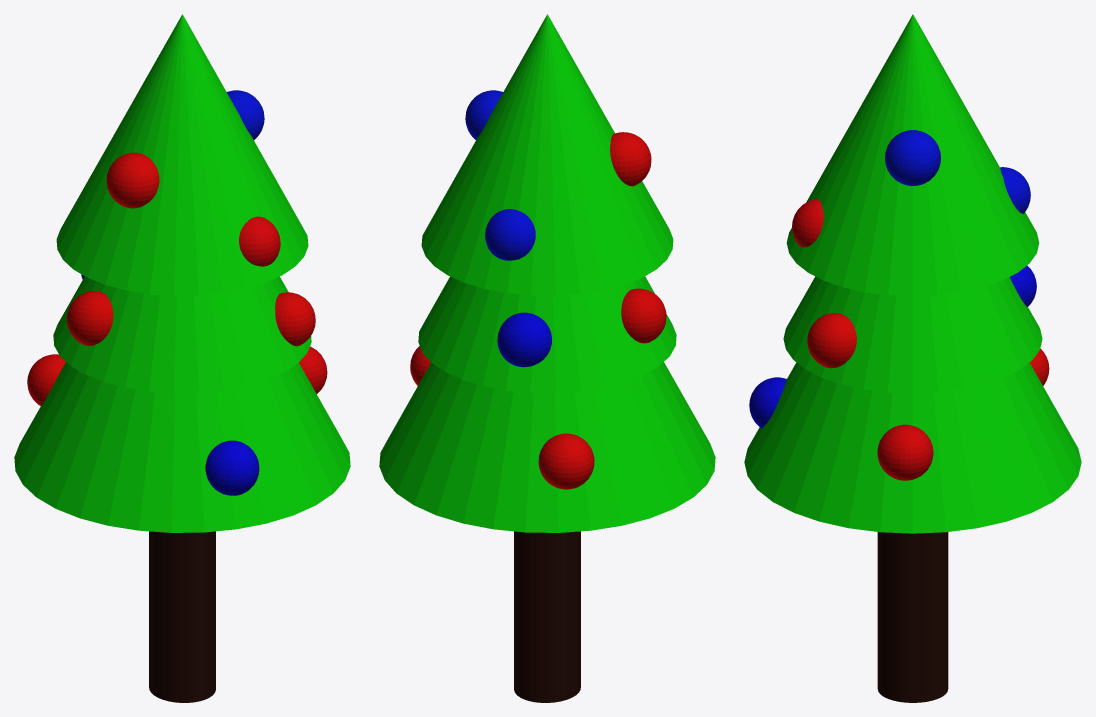
File: pinito.obj
The picture shows the model from 3 angles, left to right: view 1: azimuth 30°, elevation 25°; view 2: azimuth 150°, elevation 25°; view 3: azimuth 270°, elevation 25°; orthographic projection.
Visible parts, largest first — view 1: Cone, Cone.002, Cone.001, Cylinder, Sphere.009, Sphere.002, Sphere.004, Sphere.006, Sphere.003, Sphere.008, Sphere, Sphere.007; view 2: Cone, Cone.002, Cone.001, Cylinder, Sphere.008, Sphere.005, Sphere.001, Sphere.004, Sphere.002, Sphere; view 3: Cone, Cone.002, Cone.001, Cylinder, Sphere.007, Sphere, Sphere.006, Sphere.009, Sphere.003, Sphere.001, Sphere.005.
Part boxes in pixels (box(x1,y1,x2,y2)): Cone: box(14, 362, 350, 532); Cone.002: box(56, 14, 308, 295); Cone.001: box(53, 276, 311, 393); Cylinder: box(149, 531, 215, 702); Sphere.009: box(205, 440, 259, 495); Sphere.002: box(106, 152, 159, 208); Sphere.004: box(66, 291, 113, 345); Sphere.006: box(275, 292, 315, 346); Sphere.003: box(239, 216, 280, 266); Sphere.008: box(27, 354, 65, 405); Sphere: box(226, 90, 264, 139); Sphere.007: box(299, 346, 327, 393); Cone: box(379, 362, 715, 532); Cone.002: box(421, 14, 673, 295); Cone.001: box(418, 276, 676, 393); Cylinder: box(514, 531, 580, 702); Sphere.008: box(538, 433, 594, 489); Sphere.005: box(497, 312, 551, 367); Sphere.001: box(485, 209, 535, 260); Sphere.004: box(621, 288, 666, 343); Sphere.002: box(610, 132, 651, 186); Sphere: box(465, 90, 503, 139); Cone: box(744, 362, 1081, 533); Cone.002: box(786, 14, 1039, 296); Cone.001: box(783, 276, 1042, 393); Cylinder: box(877, 532, 948, 702); Sphere.007: box(877, 424, 933, 480); Sphere: box(885, 130, 940, 185); Sphere.006: box(807, 313, 856, 368); Sphere.009: box(749, 377, 786, 428); Sphere.003: box(792, 199, 823, 247); Sphere.001: box(1000, 167, 1030, 213); Sphere.005: box(1010, 265, 1036, 306).
Size of the model in its own units: 3.74 by 8.26 by 3.74.
